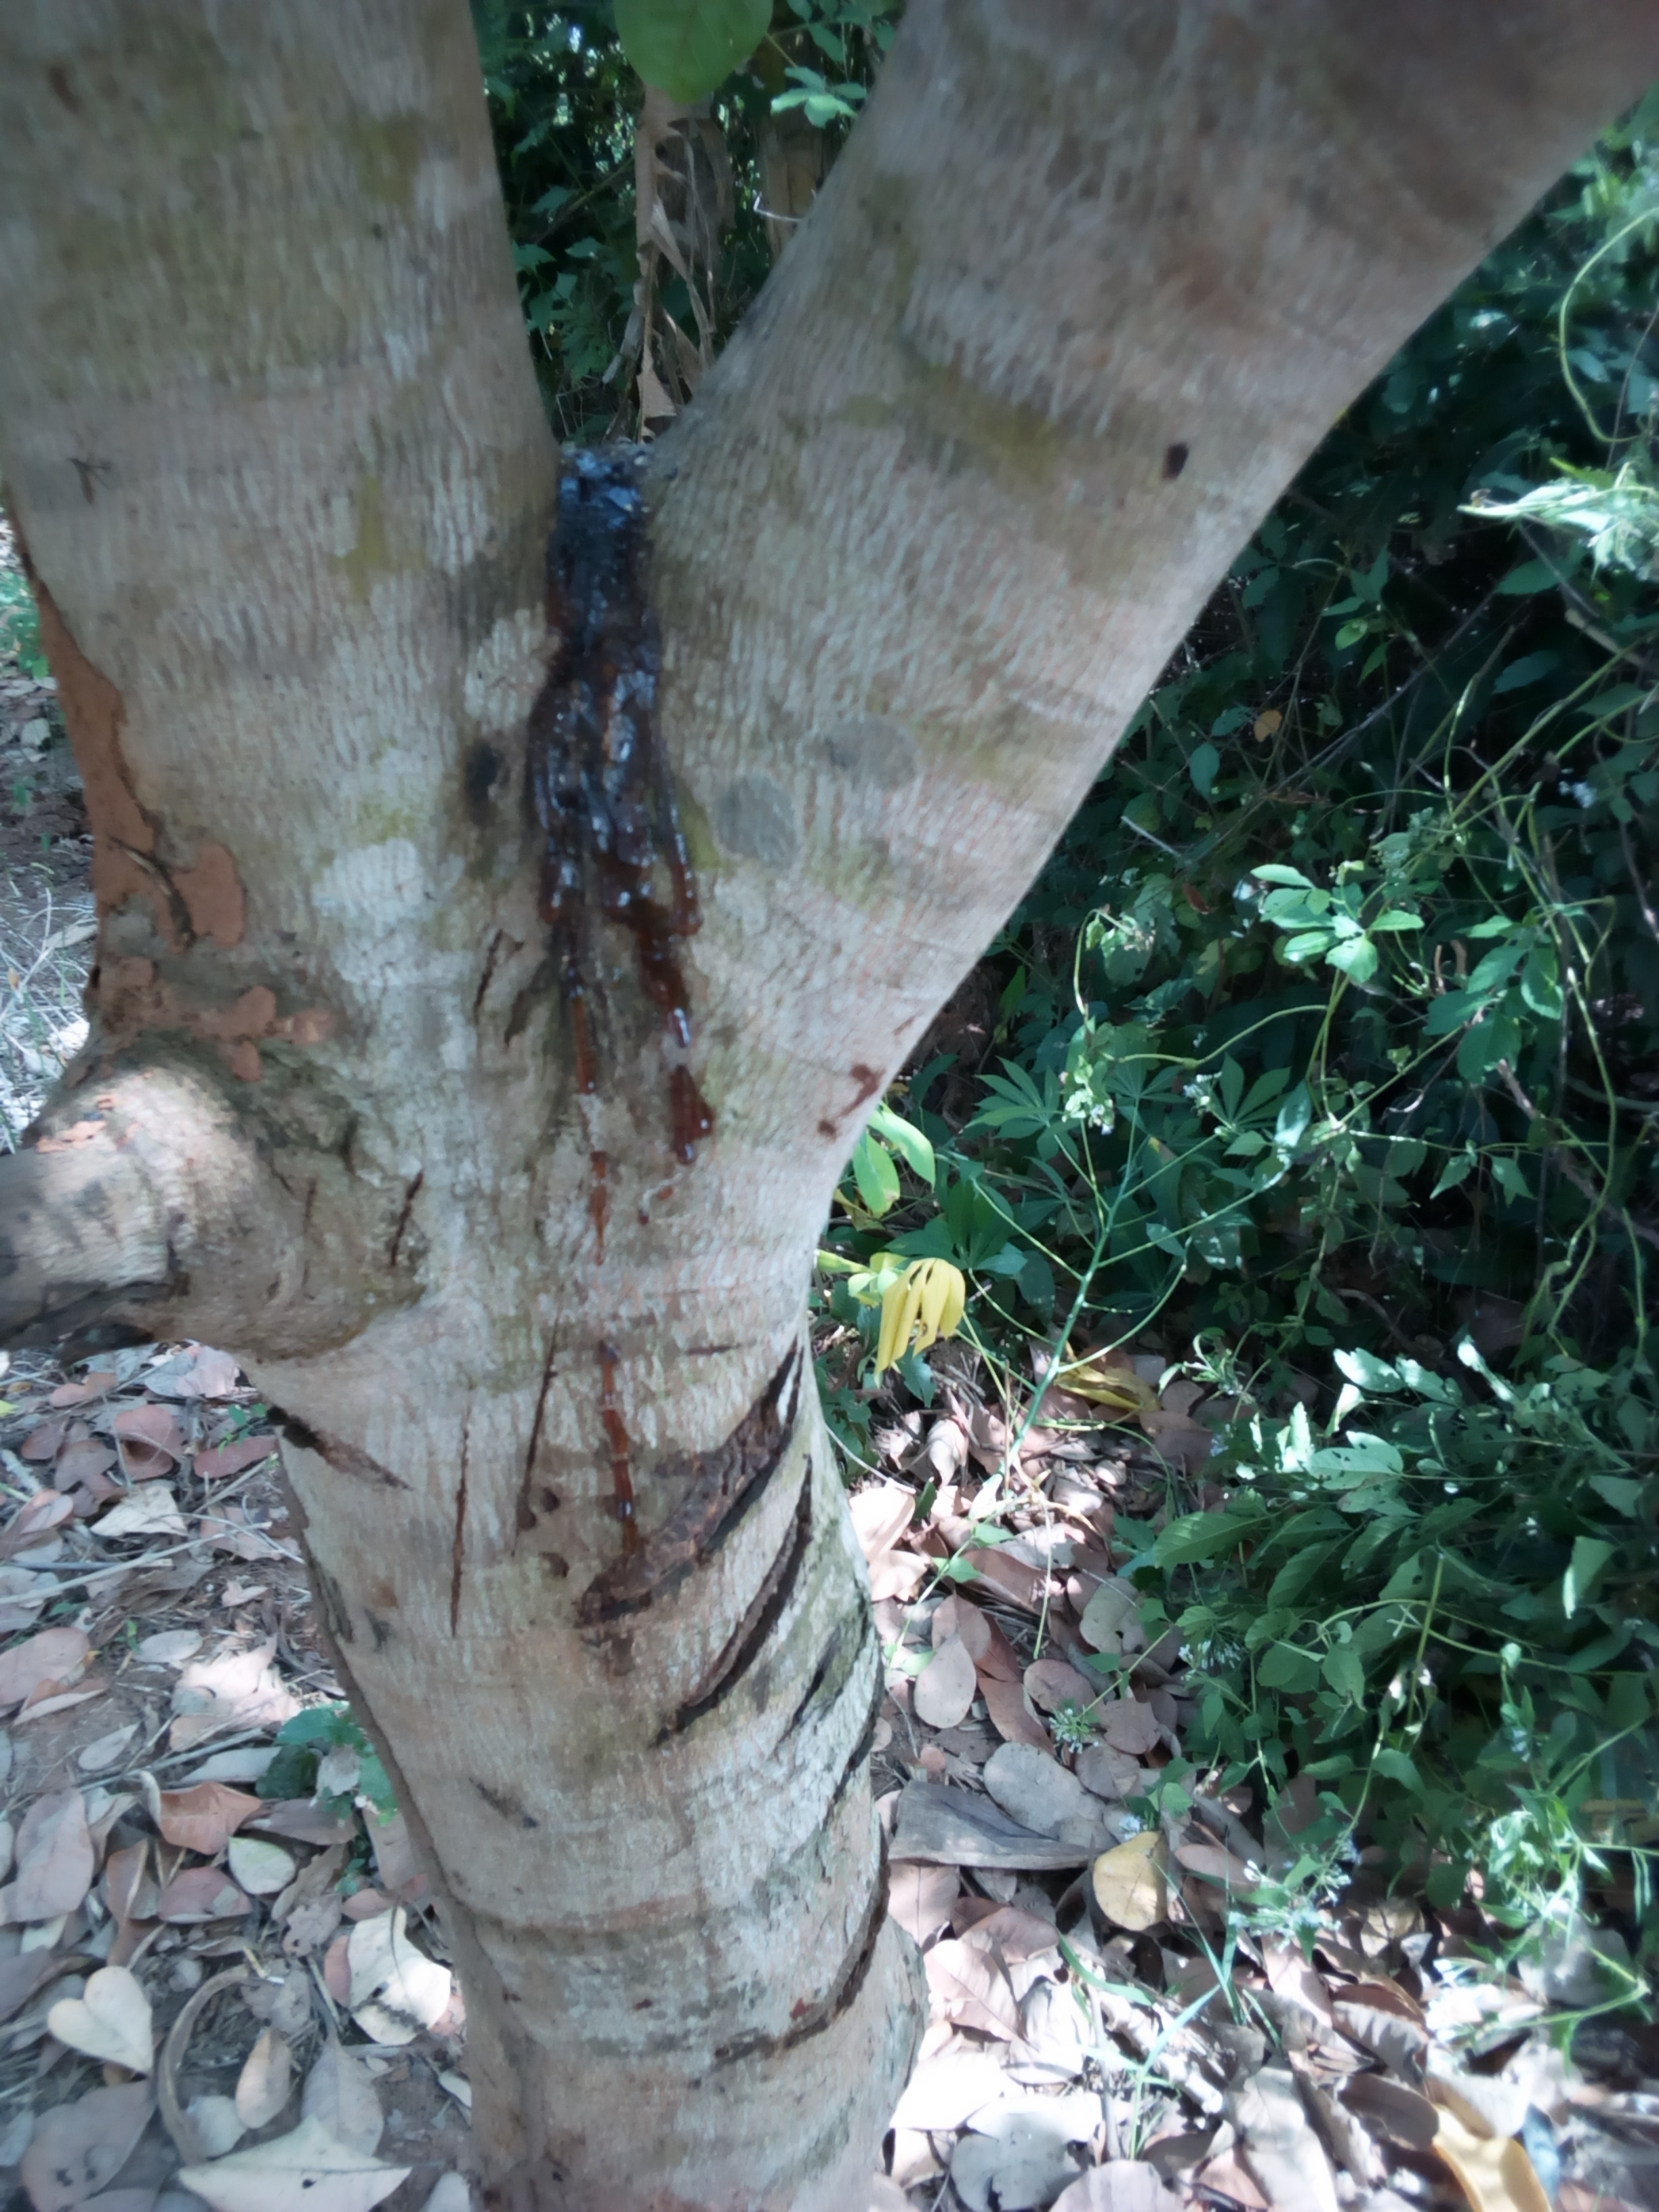Mecocorynus longiceps: (382, 324, 894, 1139)
